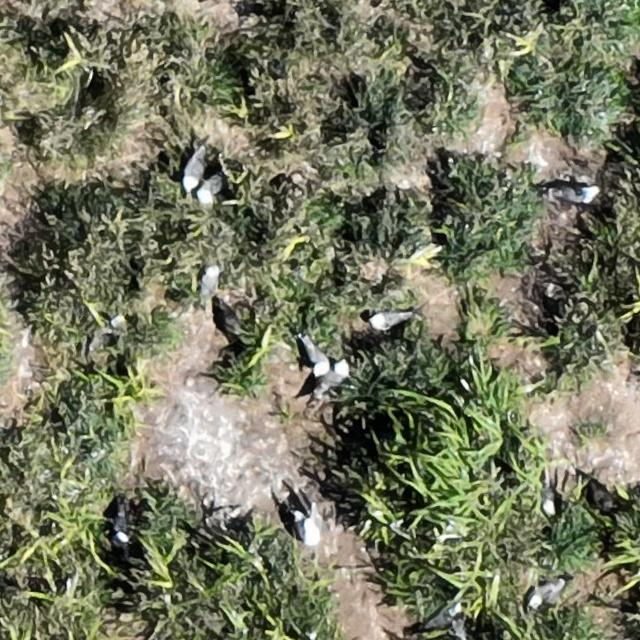umineko: (531, 580, 565, 606), (549, 186, 594, 205), (304, 338, 326, 372), (183, 153, 203, 190), (298, 512, 318, 547), (198, 176, 222, 204), (370, 310, 406, 328), (200, 264, 218, 299), (424, 607, 454, 627), (328, 360, 349, 385), (115, 506, 130, 539)
